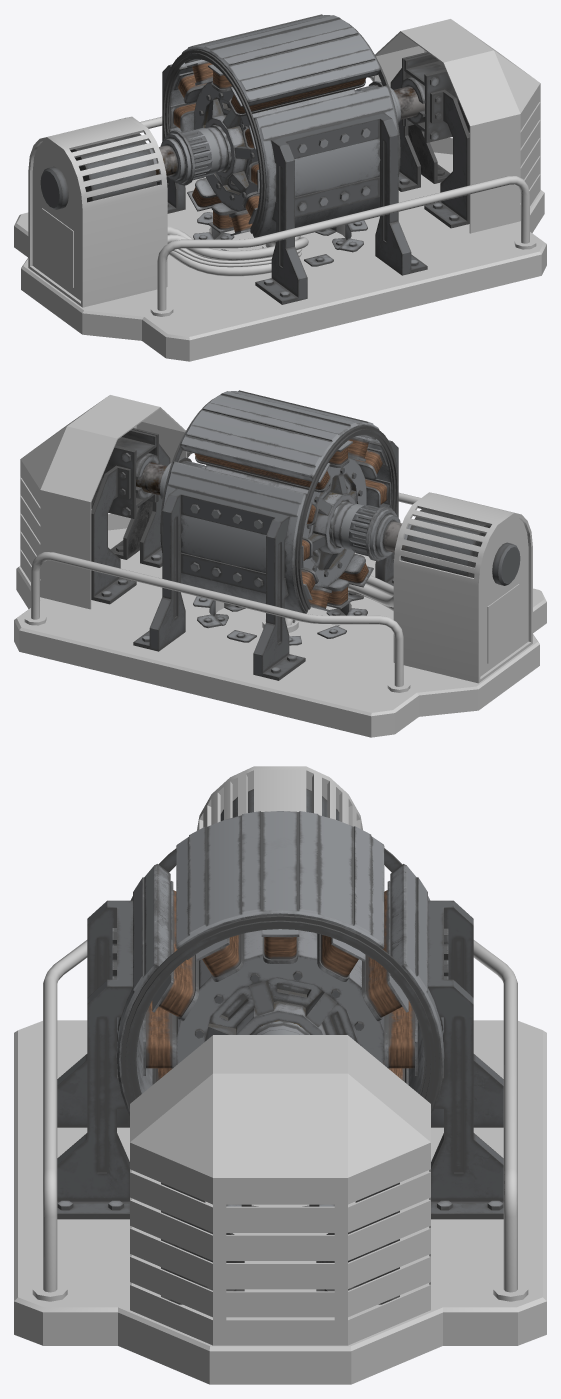
The picture shows the model from 3 angles, top to bottom: view 1: azimuth 30°, elevation 25°; view 2: azimuth 150°, elevation 25°; view 3: azimuth 270°, elevation 25°; orthographic projection. The views are drawn at different scales.
Visible parts, largest first — view 1: Machine, Rotor; view 2: Machine, Rotor; view 3: Machine, Rotor.
Part boxes in pixels (bbox=[...]): Machine: bbox=[14, 14, 546, 361]; Rotor: bbox=[155, 61, 424, 235]; Machine: bbox=[14, 390, 546, 737]; Rotor: bbox=[136, 437, 405, 611]; Machine: bbox=[14, 766, 546, 1384]; Rotor: bbox=[143, 881, 417, 1084].
Size of the model in its own units: 5.76 by 2.55 by 3.61.
